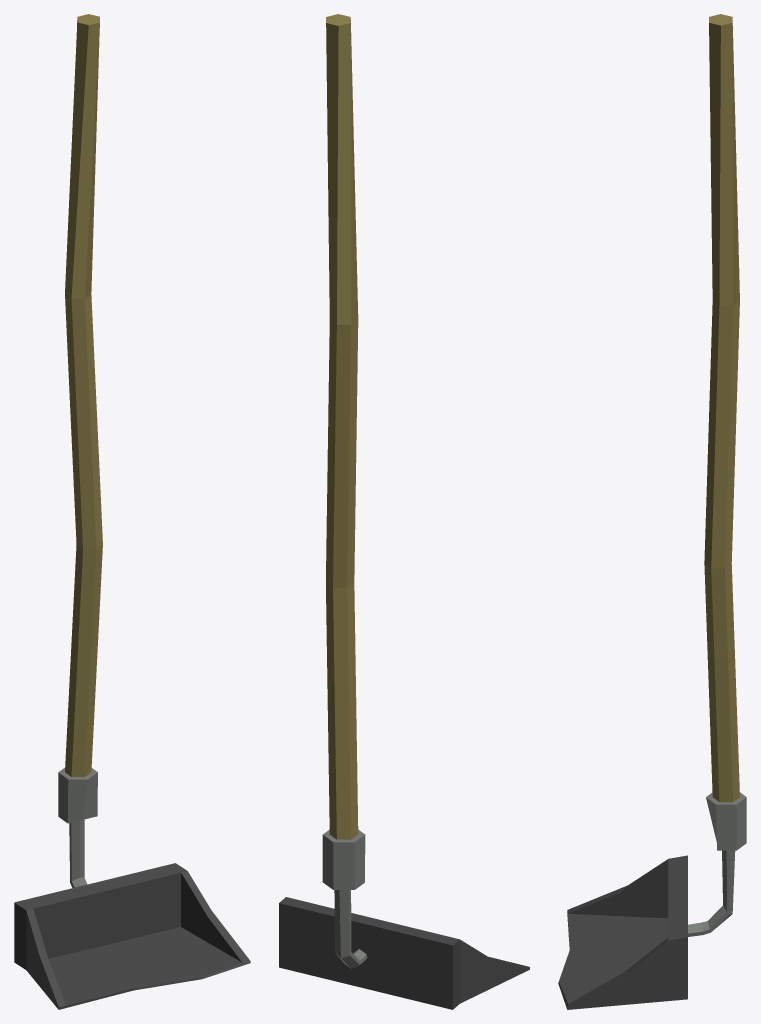
The model's file is gardentool04.fbx.
3 views of the same model, side by side, from view 1: azimuth 30°, elevation 25°; view 2: azimuth 150°, elevation 25°; view 3: azimuth 270°, elevation 25° (orthographic). The views are drawn at different scales.
Visible parts, largest first — view 1: Cylinder.005; view 2: Cylinder.005; view 3: Cylinder.005.
Part boxes in pixels (bbox=[...]): Cylinder.005: bbox=[14, 14, 250, 1009]; Cylinder.005: bbox=[279, 14, 529, 1009]; Cylinder.005: bbox=[558, 14, 746, 1009].
Bounding box in the file's own units: 0.1981 × 0.8976 × 0.1623.
